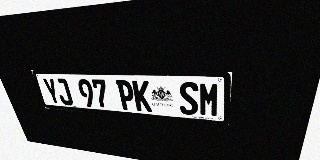7: (90, 79, 111, 109)
9: (76, 79, 97, 107)
J: (54, 78, 74, 106)
K: (132, 80, 152, 112)
M: (199, 82, 220, 117)
P: (116, 80, 136, 111)
S: (178, 82, 198, 116)
Y: (42, 78, 62, 105)
